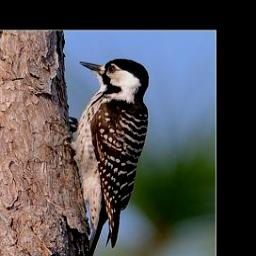Woodpecker: (62, 53, 153, 256)
